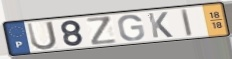8: (60, 19, 85, 47)
G: (116, 13, 146, 42)
I: (180, 8, 194, 37)
K: (146, 11, 174, 39)
U: (25, 20, 59, 52)
Z: (85, 15, 120, 47)
